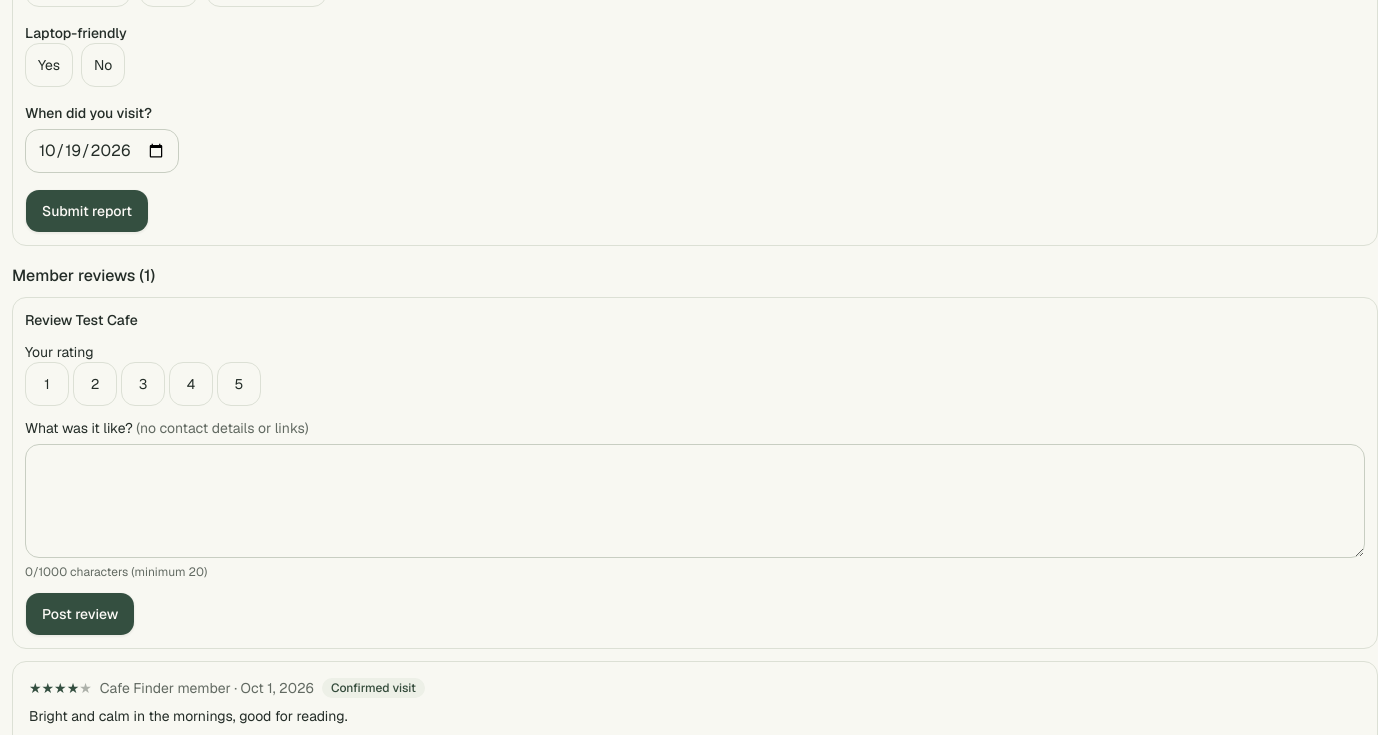
Test case: CommunitySection › explains when a posted review is held for moderation
The width and height of the screenshot is (1378, 735).
(page scrolled)
Step 1. Click the radio button named "5 out of 5" → (239,384), box [217,362,261,406]
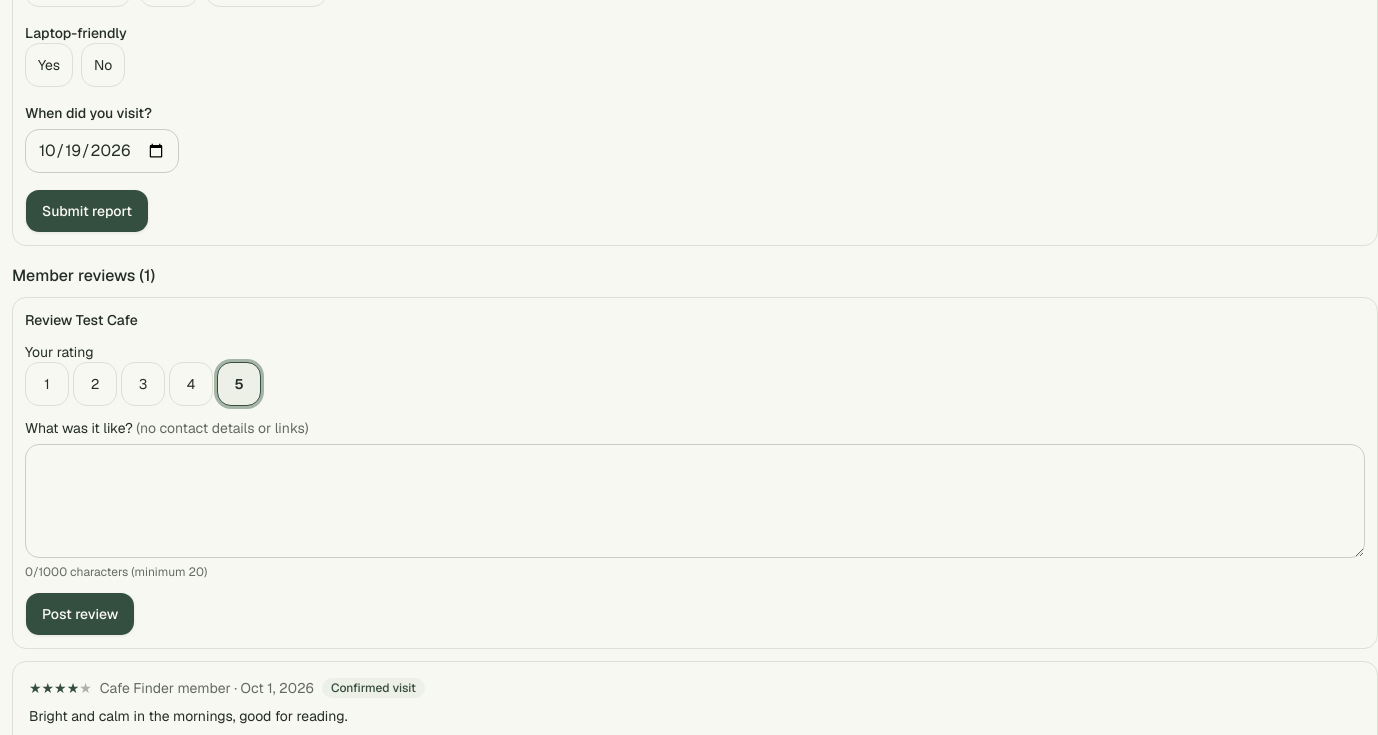
Step 2. Type "Great place, call 012 345 678 to book." into the text box → (695,501), box [25,444,1365,558]
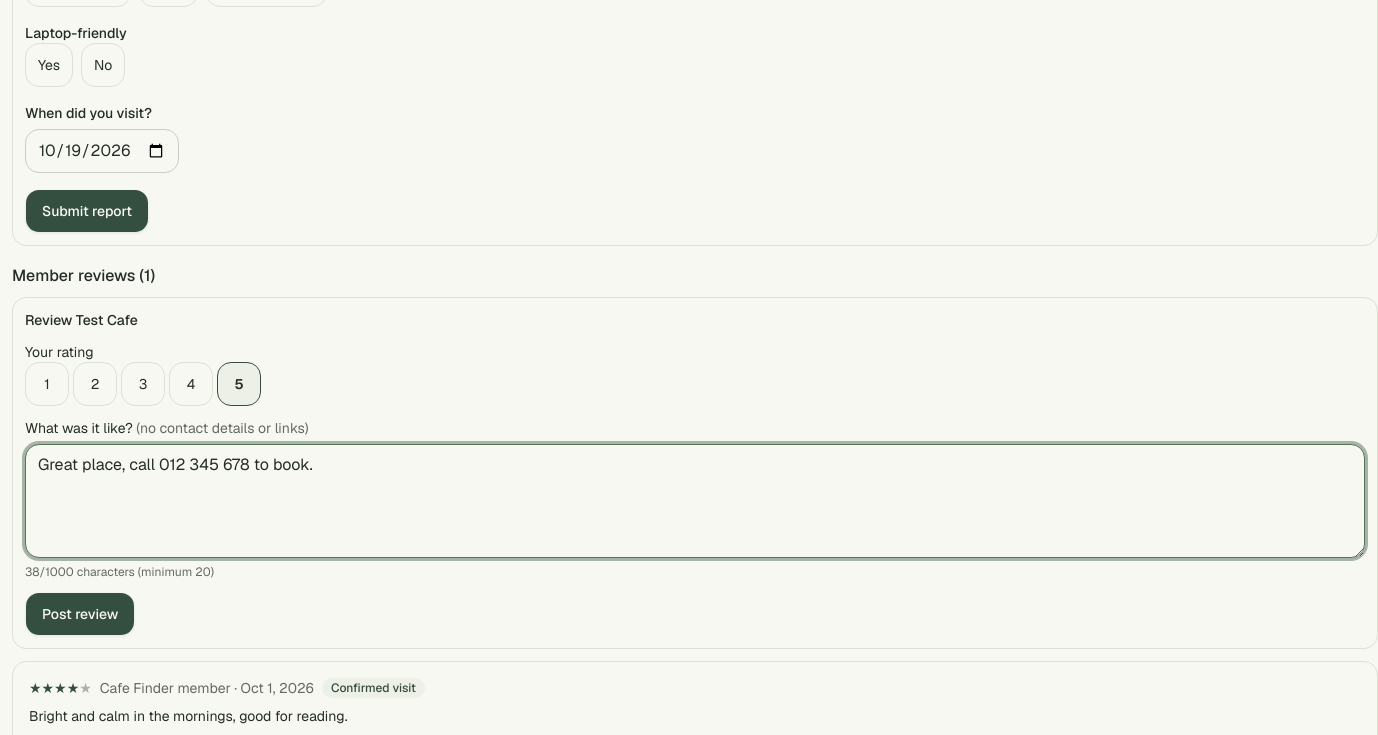
Step 3. Click the button "Post review" → (80,614), box [25,592,135,636]
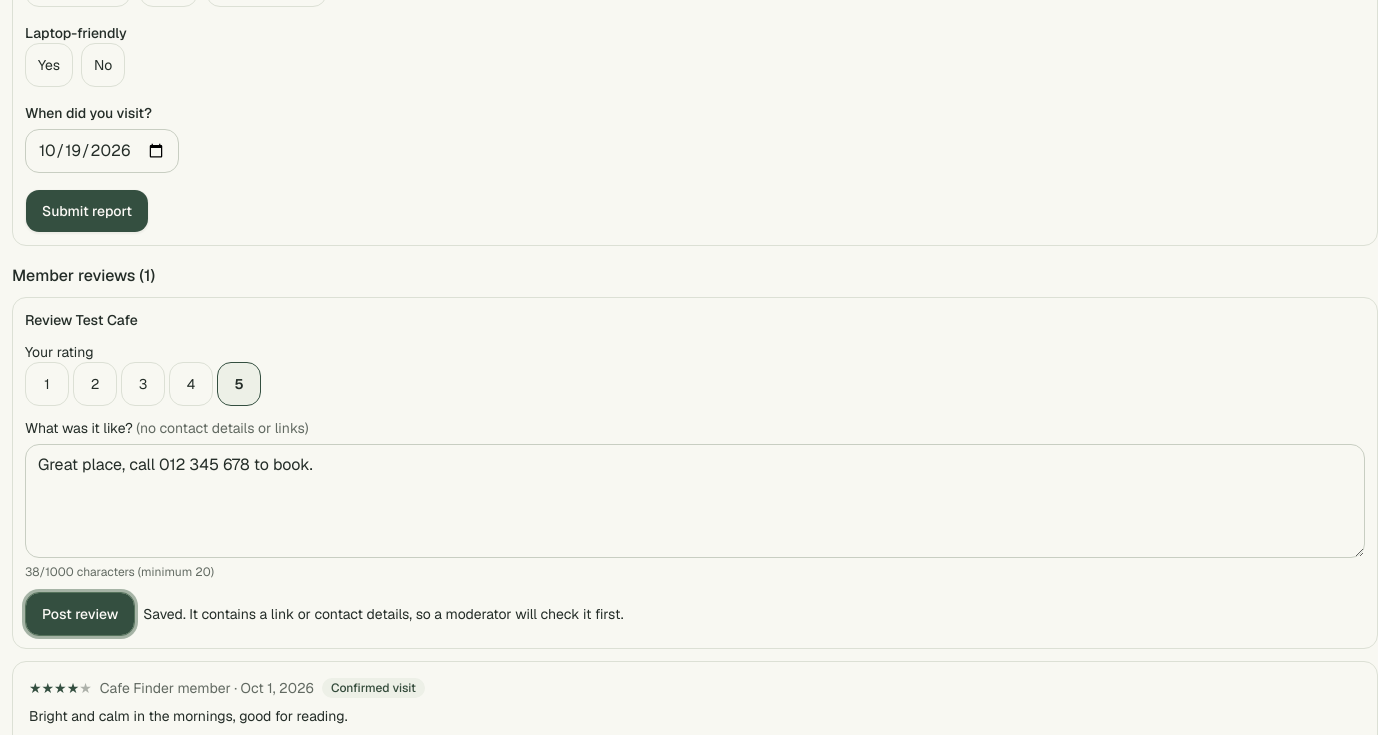
expect the message shows "moderator will check it first": met, box [143,605,624,623]
